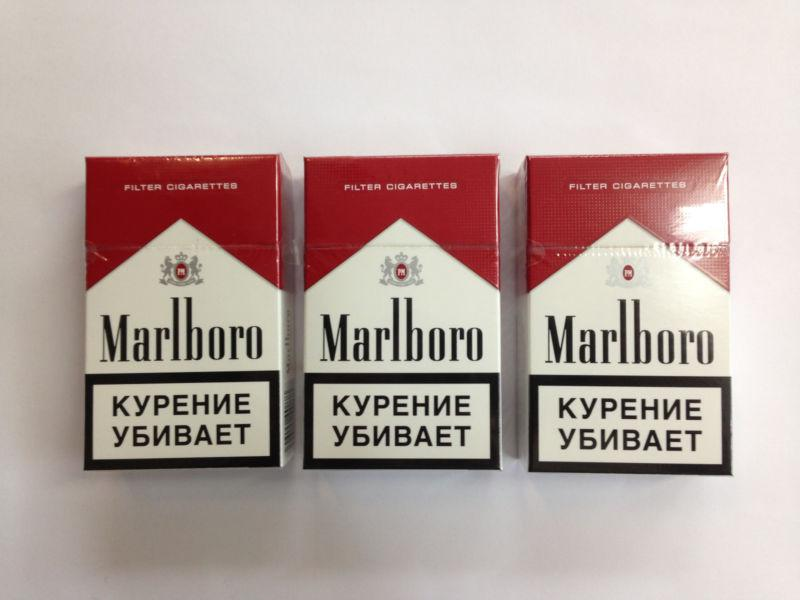marlboro_red: (527, 159, 731, 477), (89, 159, 282, 469), (307, 158, 498, 469)
